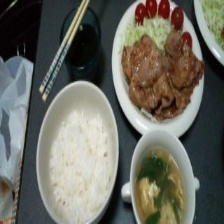rice: (45, 108, 116, 224)
